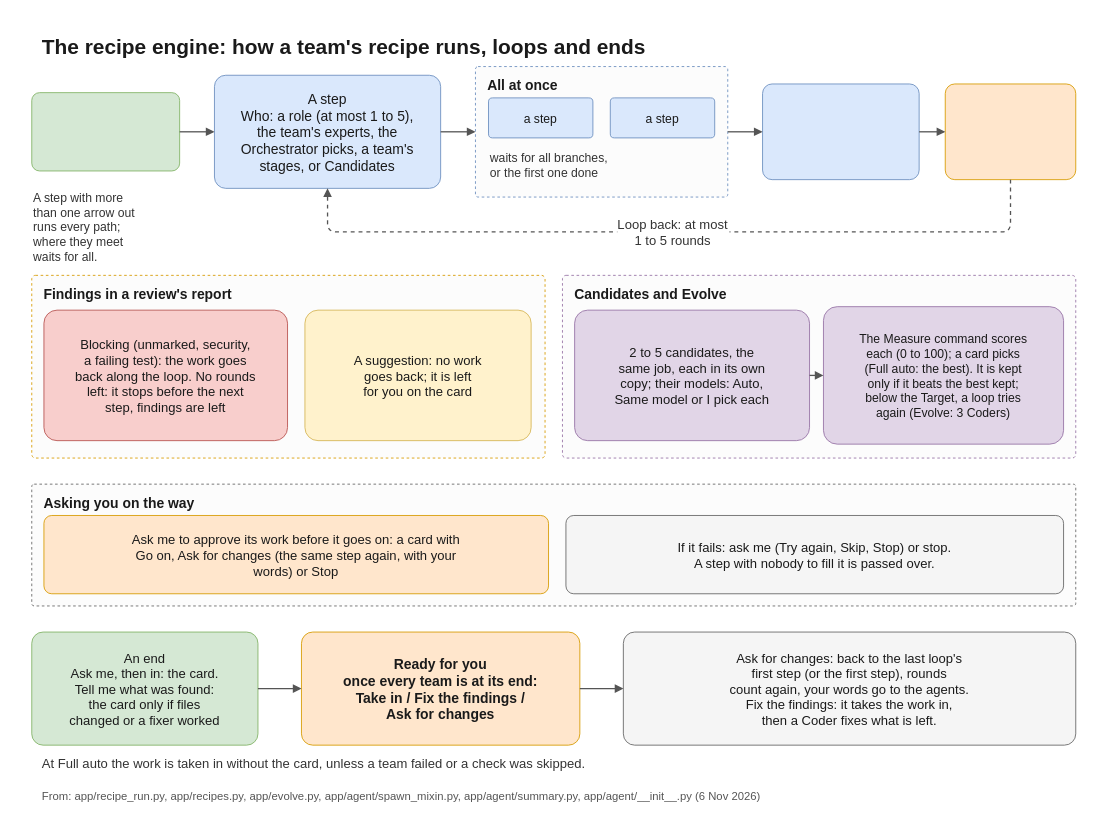
The diagram is 1108 pixels wide and 838 high, and some of its shapes have lost their labels. Here are the shapes that lost their labels. From the top down, the centre of each, then its label:
At (x=105, y=131): "Start one working copy for the team".
At (x=840, y=131): "A review step Done when: no finding is left (a review)".
At (x=1010, y=131): "Only if the step before found a problem: a fixer".
